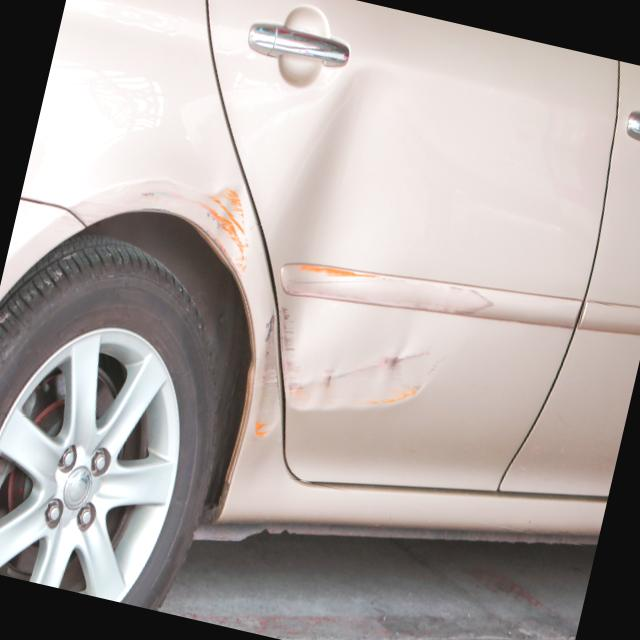Cabossage: (236, 52, 413, 405)
Rayure: (310, 315, 434, 439), (127, 161, 269, 269), (236, 286, 330, 419), (296, 250, 395, 295), (356, 371, 430, 427), (251, 404, 275, 450)
